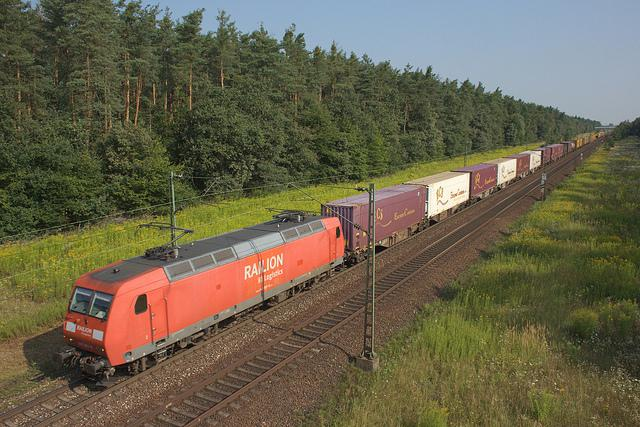Train: (59, 127, 616, 388)
